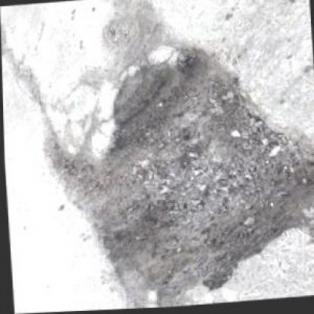Hueco: (38, 38, 314, 308)
